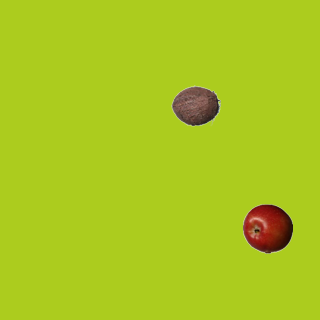Apple Braeburn: (242, 203, 292, 253)
Cocos: (170, 80, 220, 130)
